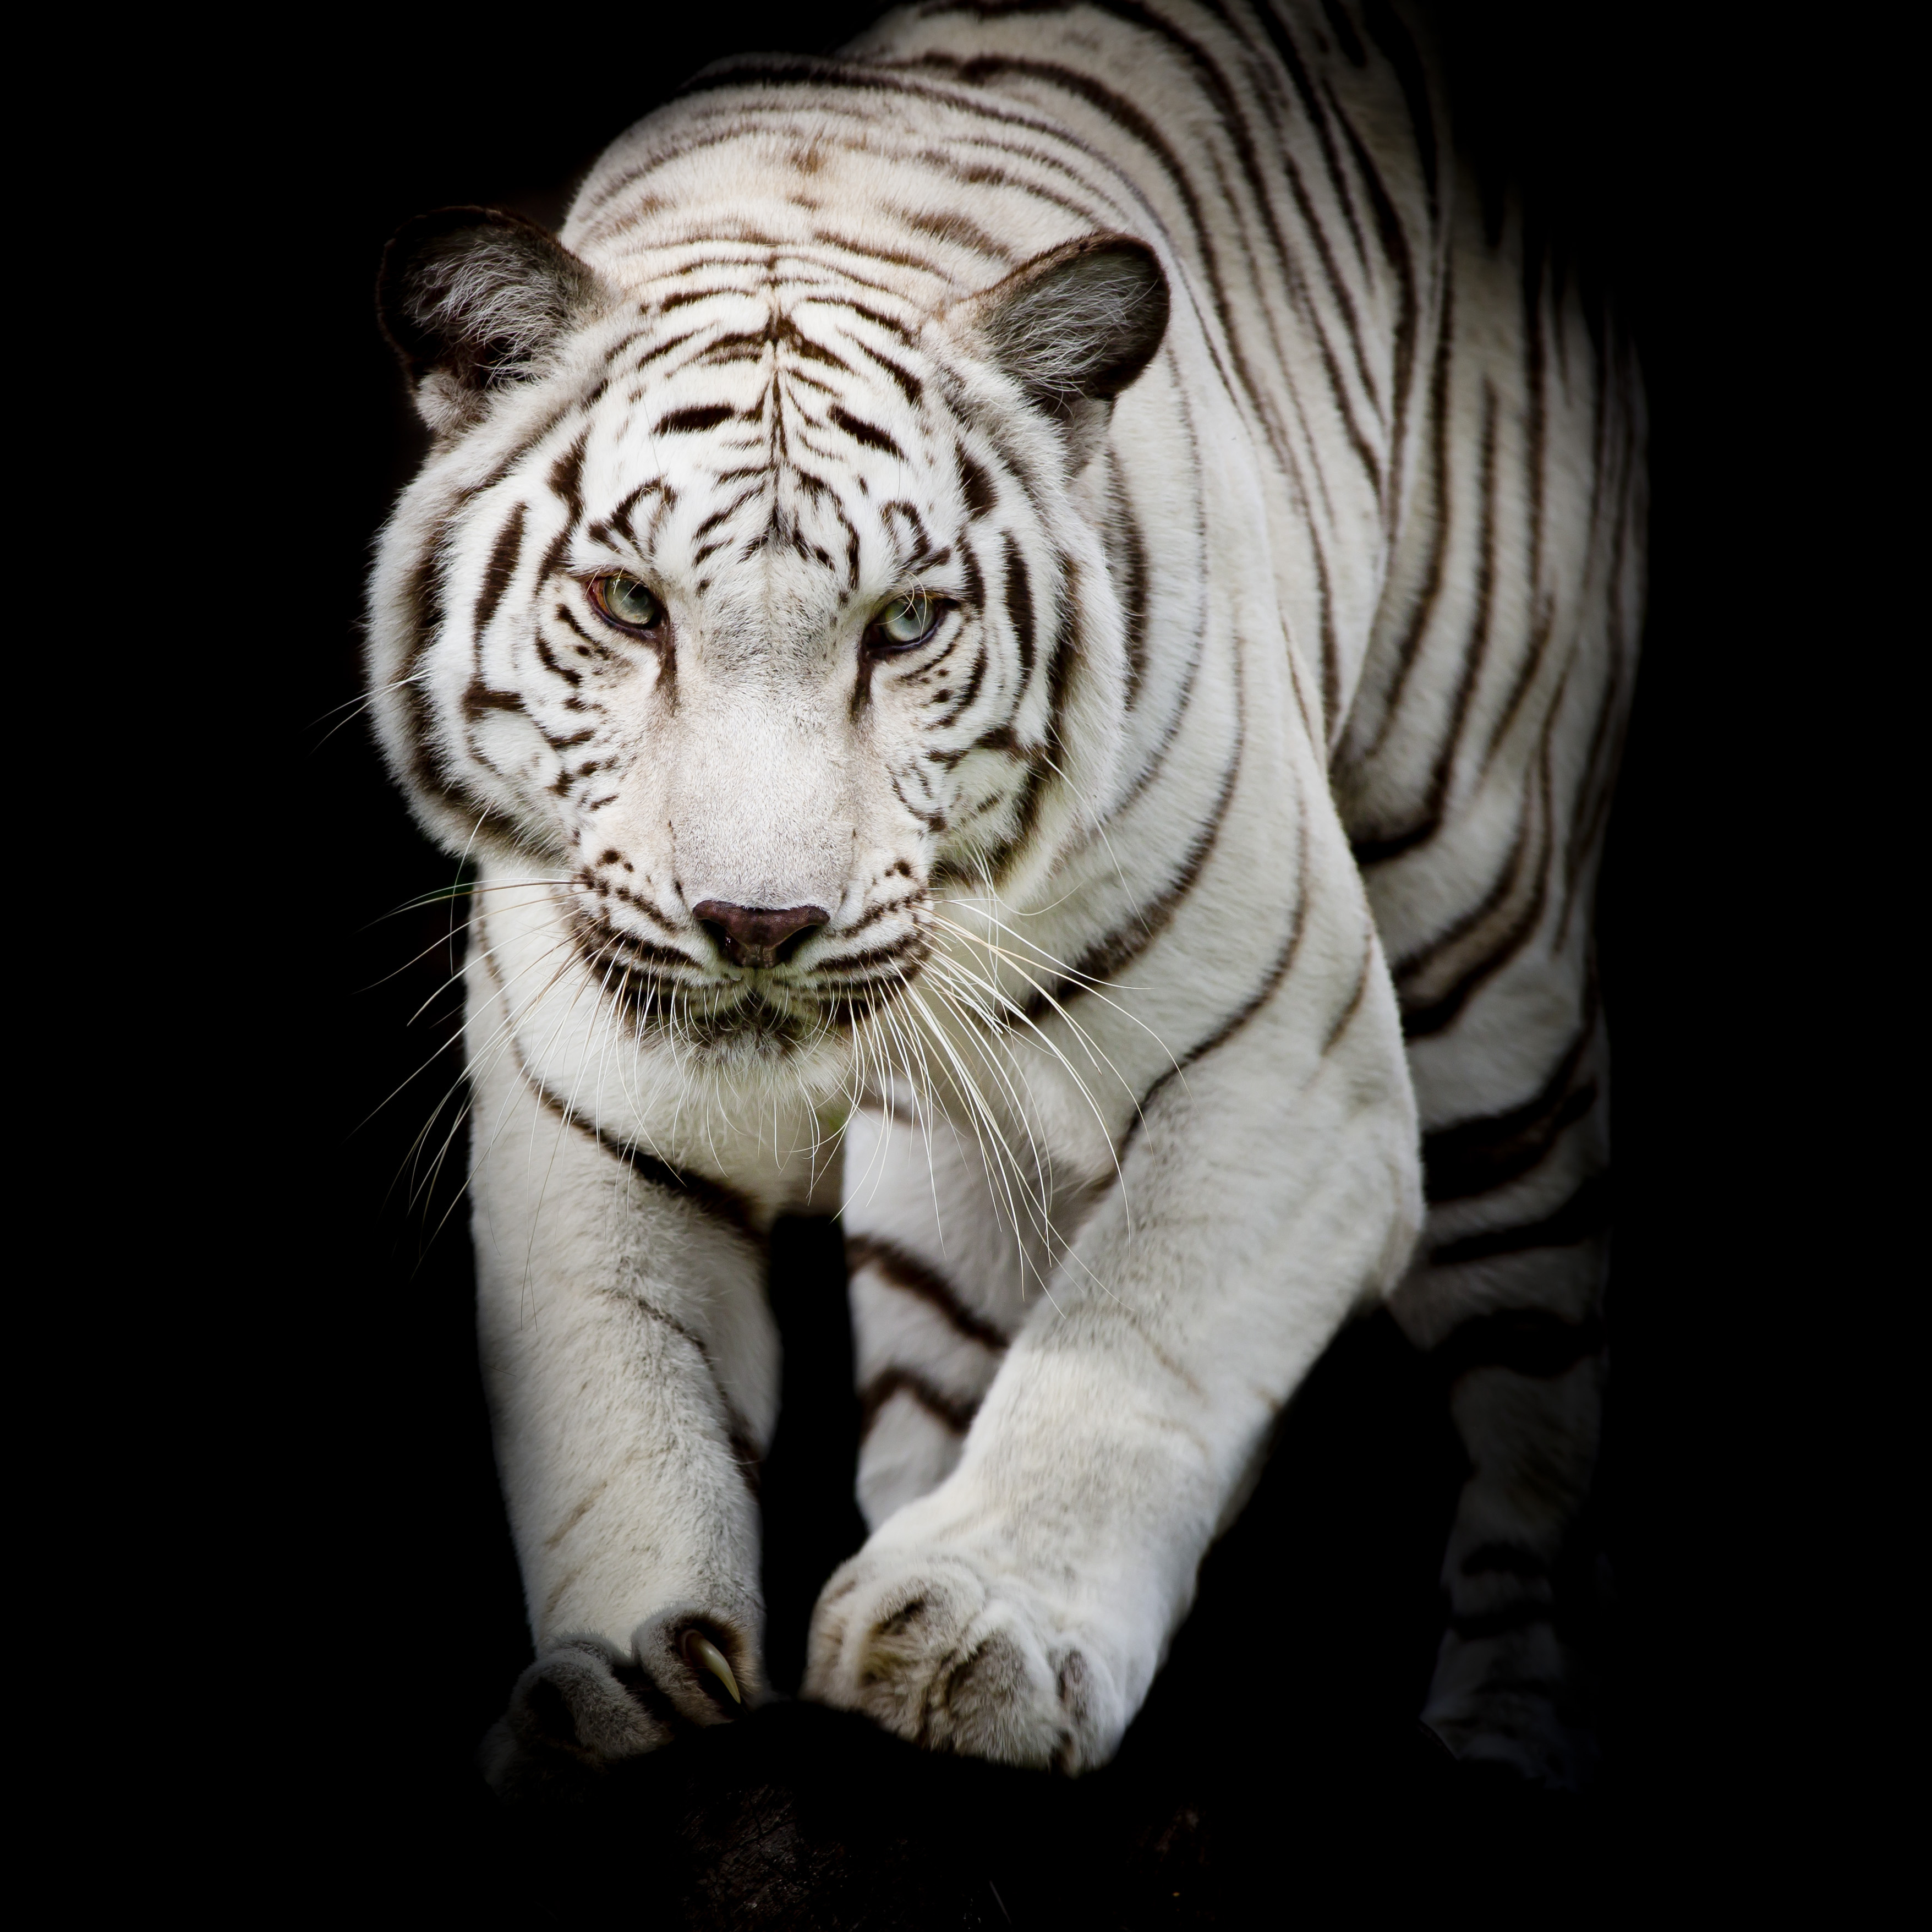tiger: (262, 46, 1624, 1817)
